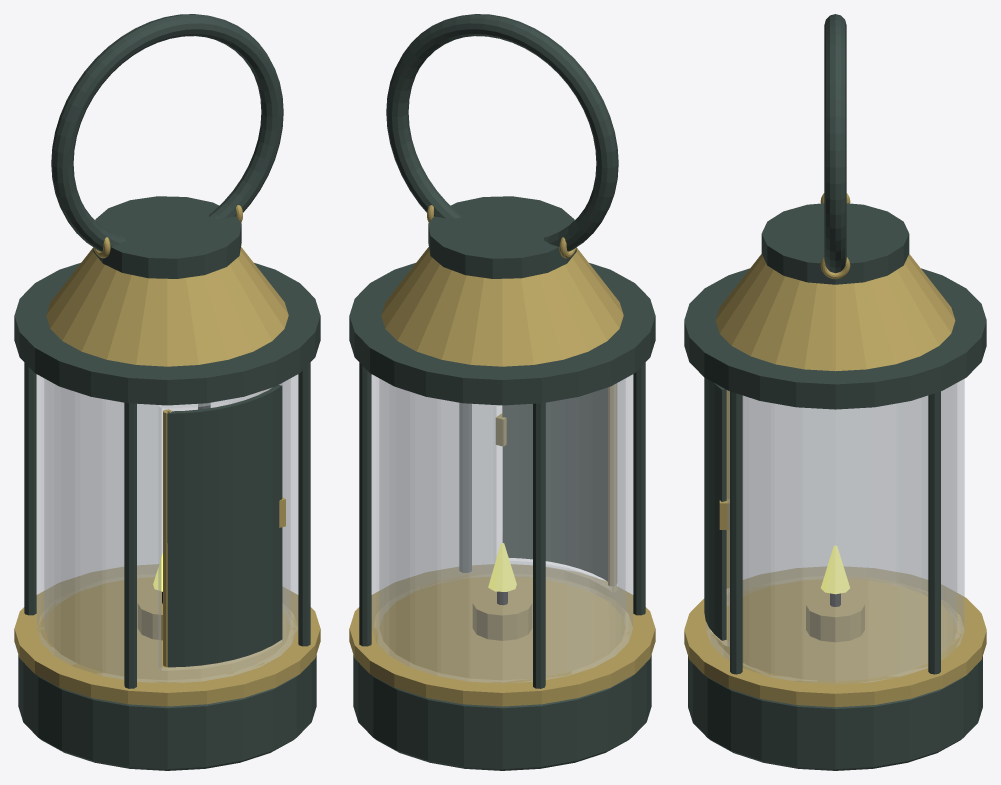
Rendered from quicktest.fbx.
The picture shows the model from 3 angles, left to right: view 1: azimuth 30°, elevation 25°; view 2: azimuth 150°, elevation 25°; view 3: azimuth 270°, elevation 25°; orthographic projection.
Parts seen in each view (by area): view 1: Lantern_Glass, Lantern_Door, Lantern_Base_BrassRing, Lantern_Chimney, Lantern_Body, Lantern_Top, Lantern_Handle, Lantern_TopDome, Lantern_FramePillar_3, Lantern_FramePillar_4, Lantern_FramePillar_2, Lantern_HingePin (+1 smaller); view 2: Lantern_Glass, Lantern_Base_BrassRing, Lantern_Chimney, Lantern_Body, Lantern_Top, Lantern_Door, Lantern_Handle, Lantern_TopDome, Lantern_FramePillar_2, Lantern_FramePillar_1, Lantern_FramePillar_3, Lantern_WickBase (+3 smaller); view 3: Lantern_Glass, Lantern_Base_BrassRing, Lantern_Chimney, Lantern_Body, Lantern_Top, Lantern_TopDome, Lantern_Handle, Lantern_Door, Lantern_FramePillar_1, Lantern_FramePillar_4, Lantern_WickBase, Lantern_Flame (+1 smaller).
Part boxes in pixels (x1,y1,x2,y2): Lantern_Glass: (37,374,297,683); Lantern_Door: (167,385,282,667); Lantern_Base_BrassRing: (14,564,320,706); Lantern_Chimney: (46,247,288,366); Lantern_Body: (18,655,316,770); Lantern_Top: (14,263,320,405); Lantern_Handle: (51,14,283,251); Lantern_TopDome: (93,196,241,278); Lantern_FramePillar_3: (124,402,136,688); Lantern_FramePillar_4: (298,362,310,646); Lantern_FramePillar_2: (24,362,36,615); Lantern_HingePin: (163,409,171,666); Lantern_Glass: (372,374,632,683); Lantern_Base_BrassRing: (349,564,655,706); Lantern_Chimney: (381,247,623,366); Lantern_Body: (353,655,651,770); Lantern_Top: (349,263,655,405); Lantern_Door: (502,387,607,581); Lantern_Handle: (386,14,618,251); Lantern_TopDome: (428,196,576,278); Lantern_FramePillar_2: (533,402,545,688); Lantern_FramePillar_1: (359,362,371,646); Lantern_FramePillar_3: (633,362,645,615); Lantern_WickBase: (472,591,532,640); Lantern_Glass: (706,379,964,683); Lantern_Base_BrassRing: (684,566,986,707); Lantern_Chimney: (715,254,955,371); Lantern_Body: (688,656,982,770); Lantern_Top: (684,268,986,409); Lantern_TopDome: (761,203,909,284); Lantern_Handle: (824,14,846,273); Lantern_Door: (704,377,726,640); Lantern_FramePillar_1: (928,391,940,674); Lantern_FramePillar_4: (730,391,742,674); Lantern_WickBase: (806,593,864,642); Lantern_Flame: (821,545,849,594).
Size of the model in its own units: 16.4 by 40.9 by 16.4.
